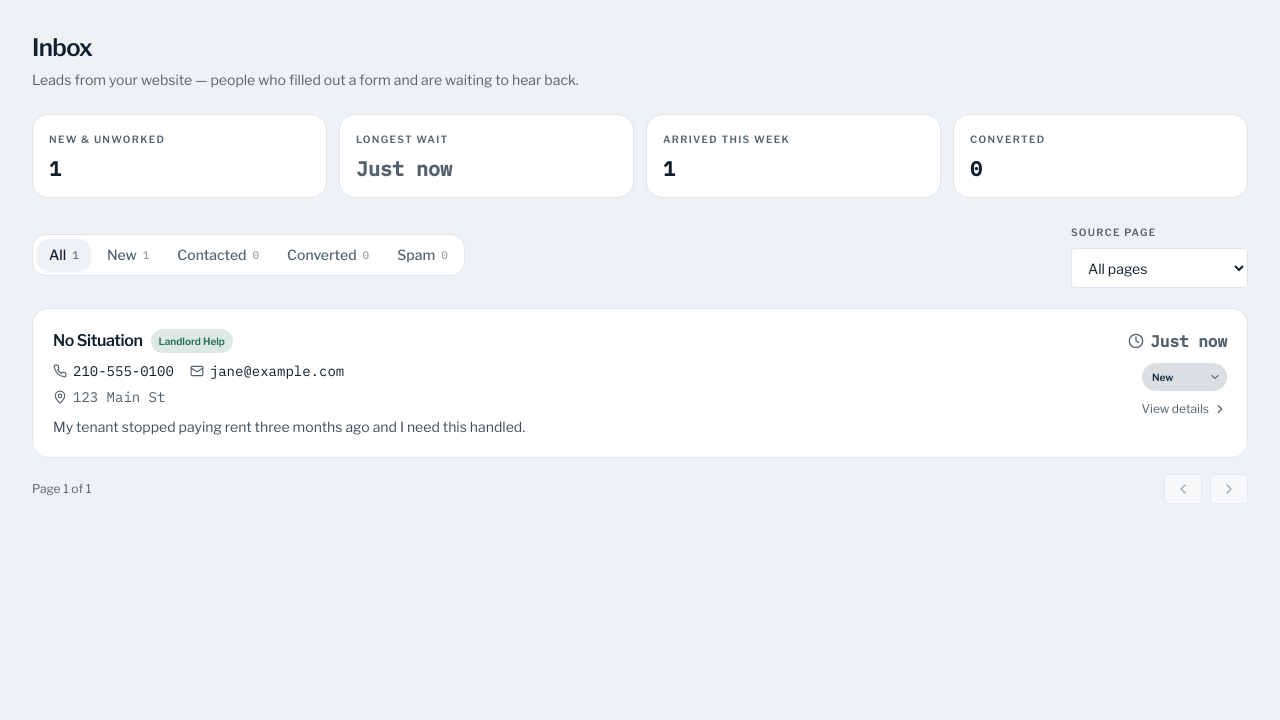
Test case: InboxView rows › hides the Situation row in the detail dialog when none was submitted
Click the heading "No Situation": (98, 341) [53, 331, 143, 351]
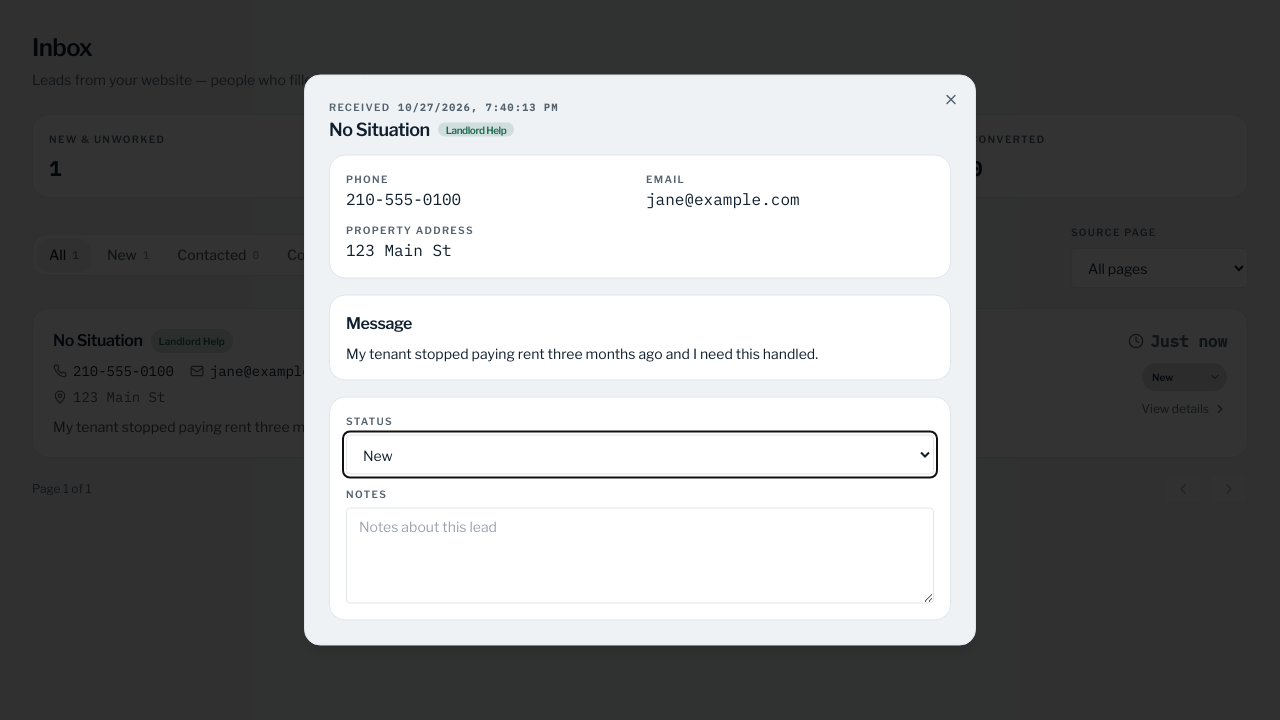
Result: the dialog is shown at [304, 74, 976, 646]
